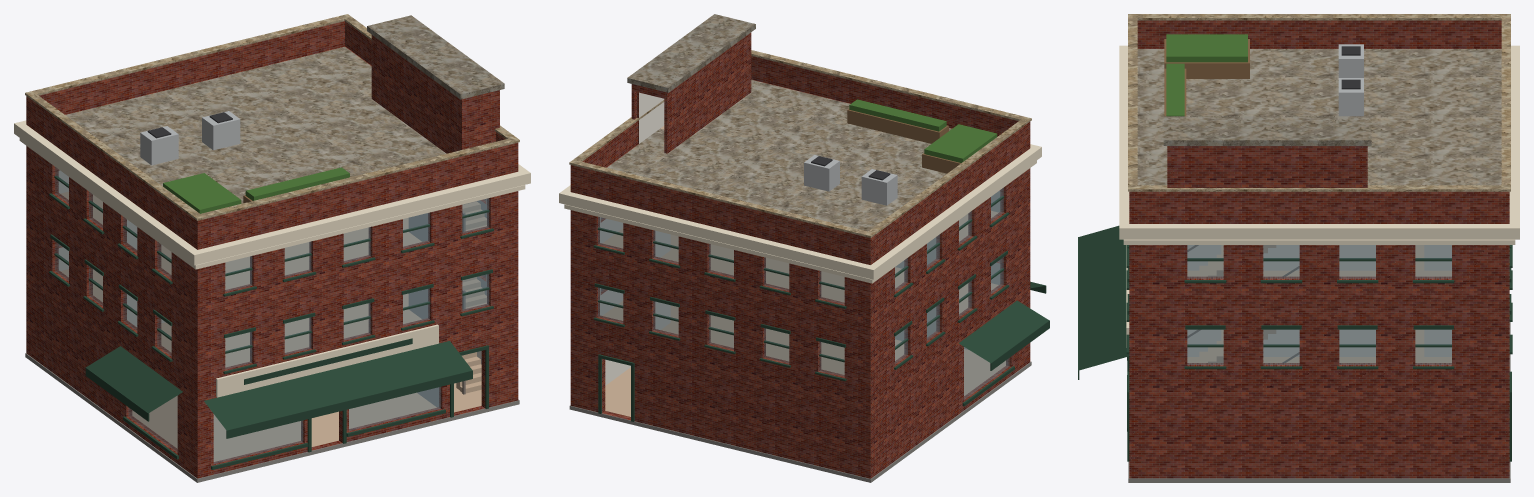
Rendered from ns-corner-store.towns-v1.lod0.glb.
3 renders of one model, left to right at view 1: azimuth 30°, elevation 25°; view 2: azimuth 150°, elevation 25°; view 3: azimuth 270°, elevation 25°, orthographic. The views are drawn at different scales.
Visible parts, largest first — view 1: ns-corner-store; view 2: ns-corner-store; view 3: ns-corner-store.
Boxes of the visible parts, x1,y1,x2,y2 form: ns-corner-store: (14,14,530,482); ns-corner-store: (559,14,1049,482); ns-corner-store: (1078,14,1519,482).
Bounding box in the file's own units: 14.74 × 11.95 × 13.94.
Materials: 6 (2 with a texture image).
